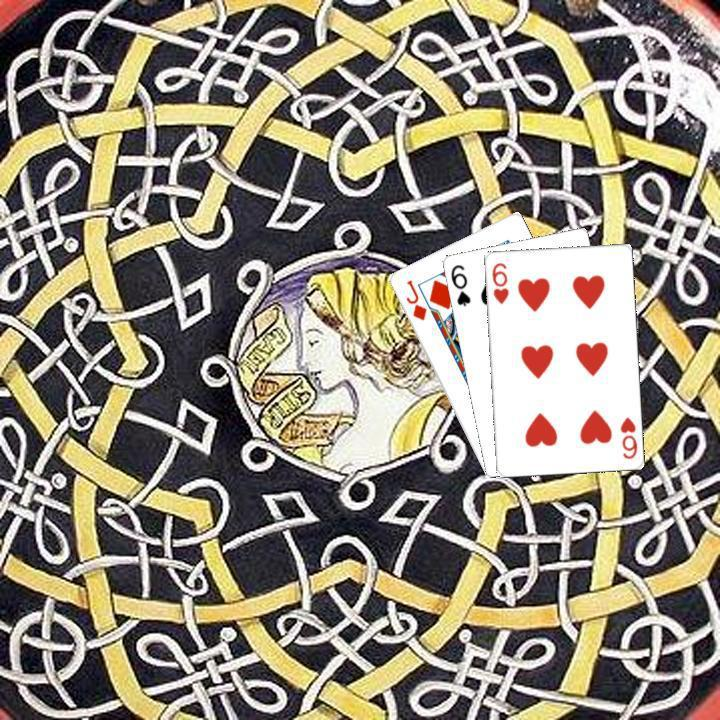6: (446, 260, 472, 308), (487, 258, 510, 305), (616, 413, 639, 460)
J: (401, 275, 429, 323)
